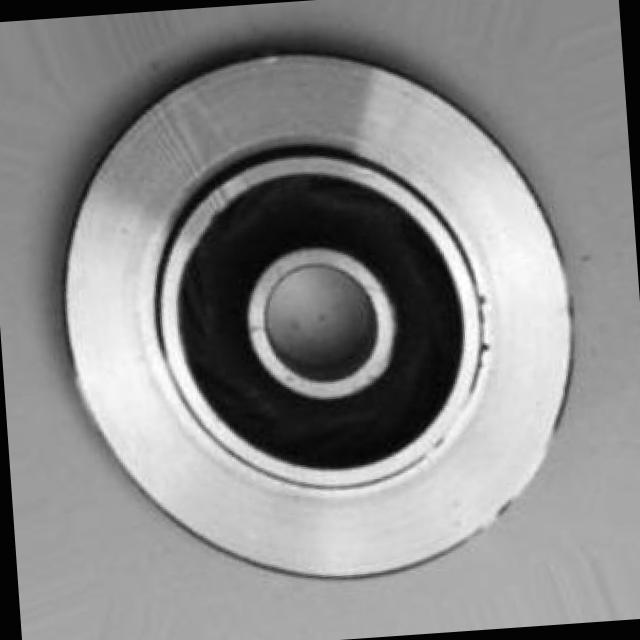Defect: (470, 335, 498, 378)
